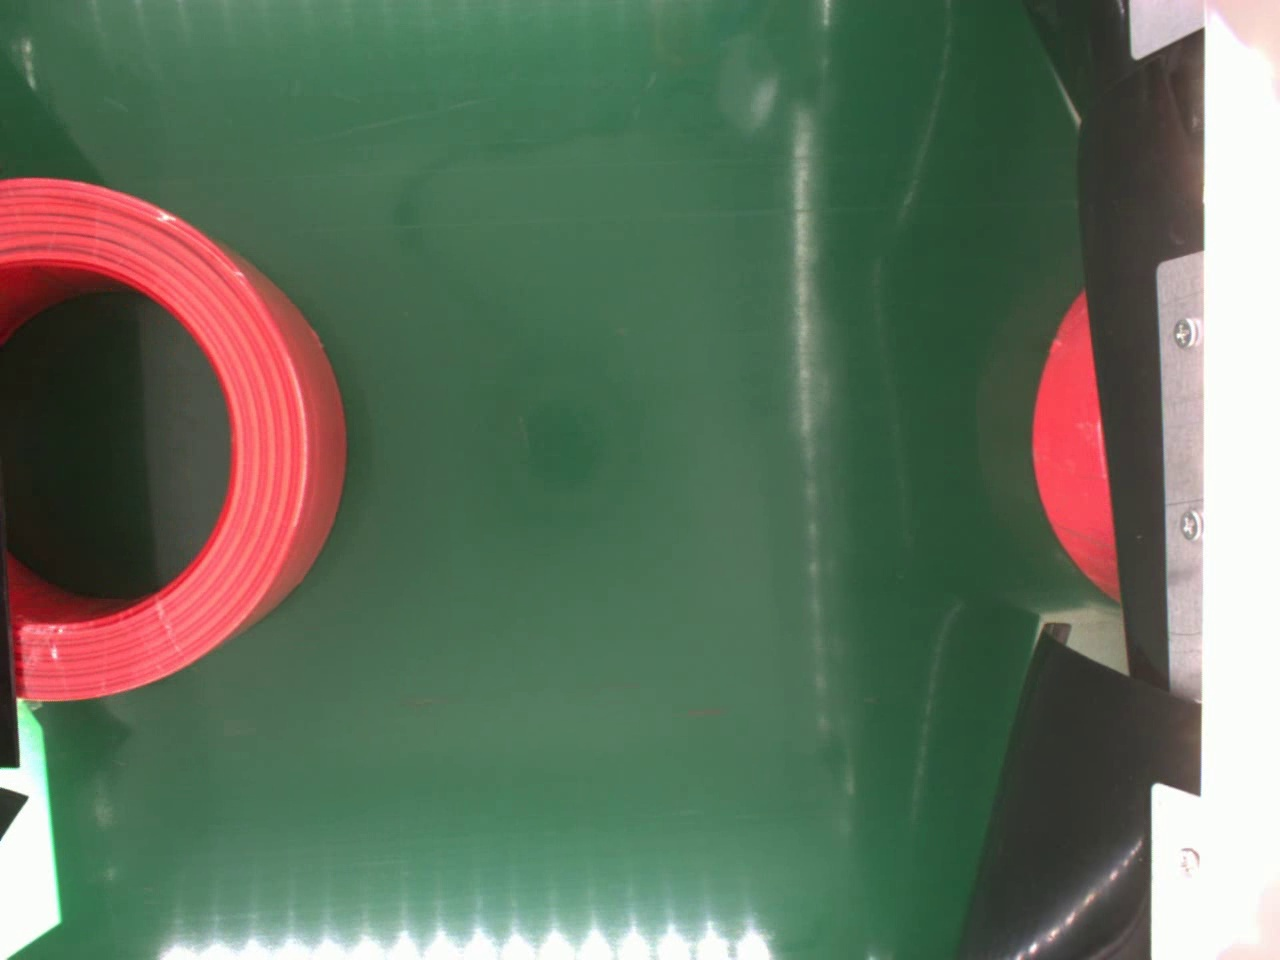red: (0, 172, 348, 708)
